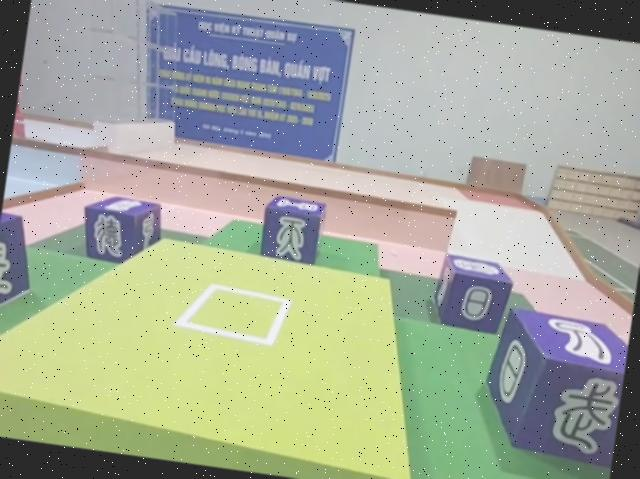R2 Fake Blue: (476, 304, 632, 471), (430, 254, 517, 337), (77, 194, 167, 272), (256, 193, 327, 266), (0, 209, 38, 338)
